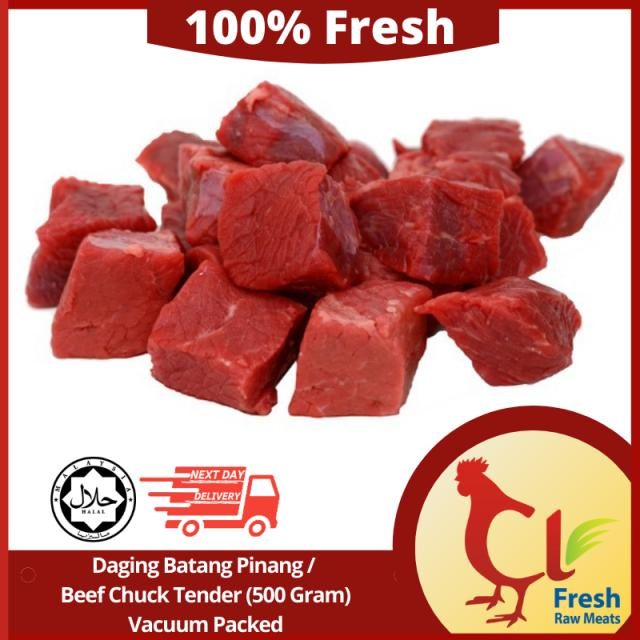beef: (34, 160, 215, 384), (280, 264, 475, 414), (409, 256, 601, 388), (195, 152, 377, 289), (135, 267, 282, 432), (204, 66, 378, 196), (406, 102, 538, 204), (501, 139, 636, 229)
